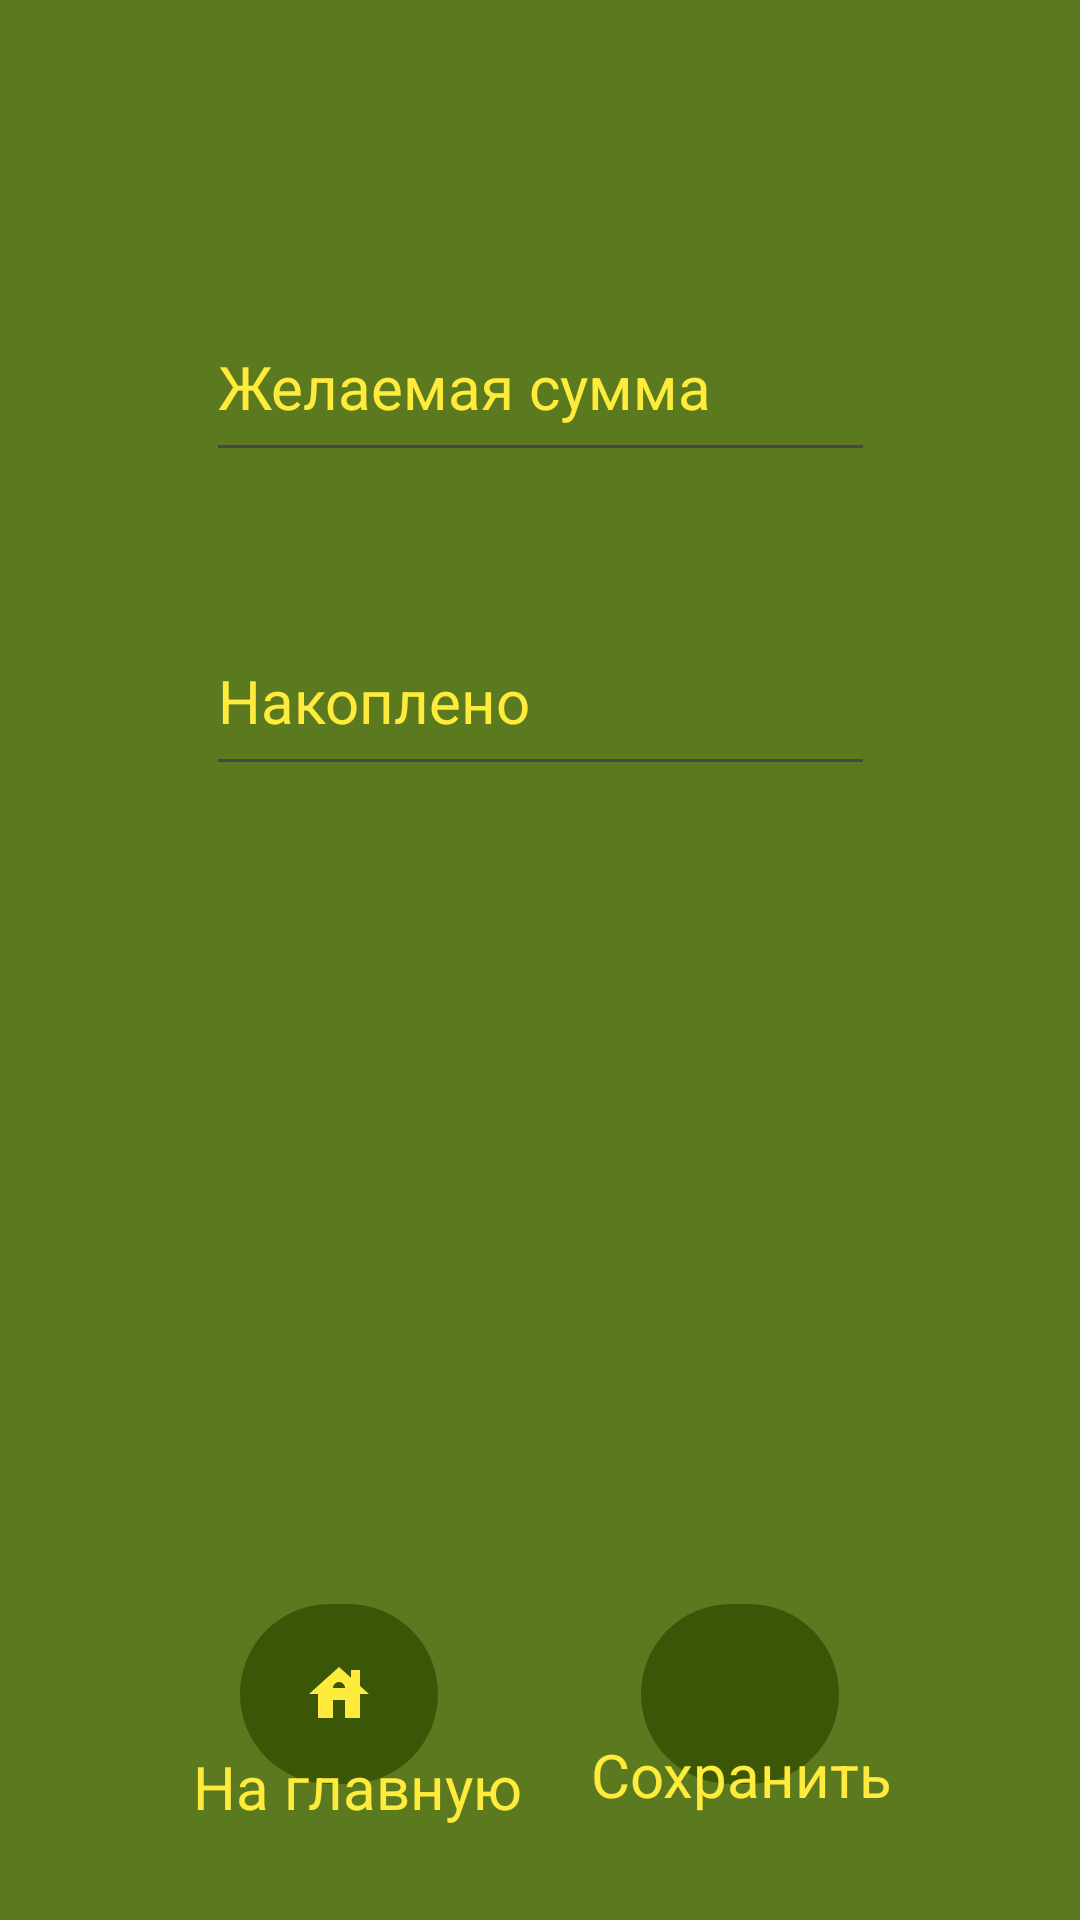

Where to tap for icons on this 1080 x 1920 app screen, as [x,y]:
house: [339,1694]
